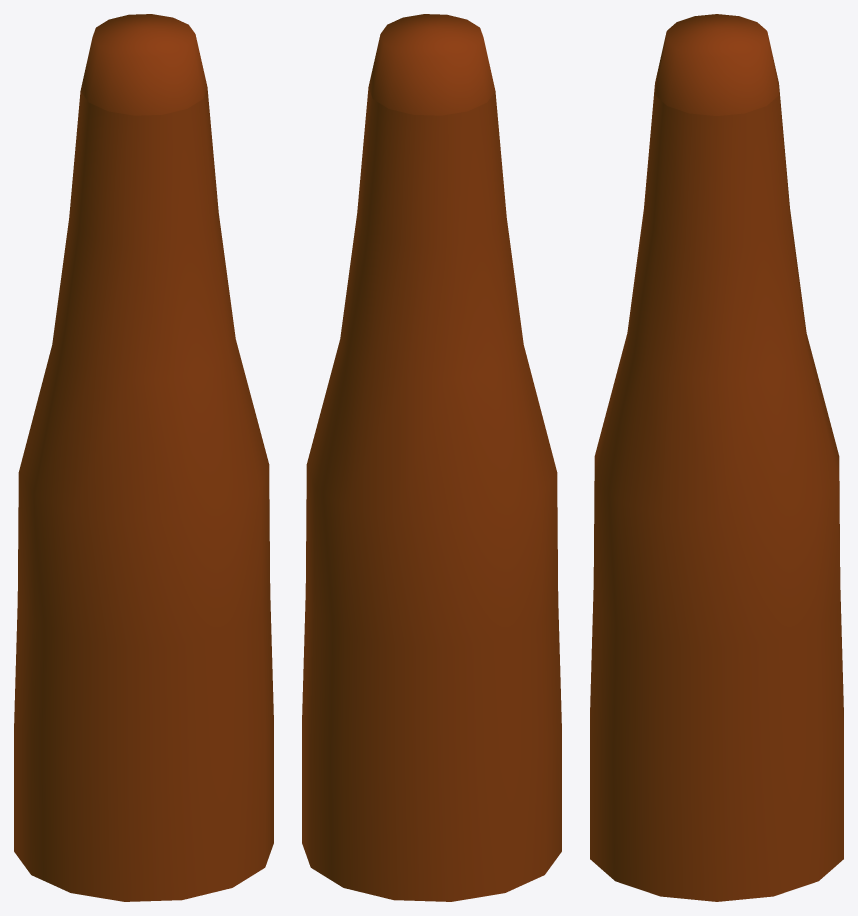
The model's file is bottle_6.fbx.
3 views of the same model, side by side, from view 1: azimuth 30°, elevation 25°; view 2: azimuth 150°, elevation 25°; view 3: azimuth 270°, elevation 25° (orthographic).
Parts seen in each view (by area): view 1: Cylinder006; view 2: Cylinder006; view 3: Cylinder006.
Boxes of the visible parts, x1,y1,x2,y2 form: Cylinder006: (14,14,273,901); Cylinder006: (302,14,561,901); Cylinder006: (590,14,843,901).
Size of the model in its own units: 1.06 by 3.66 by 1.03.
